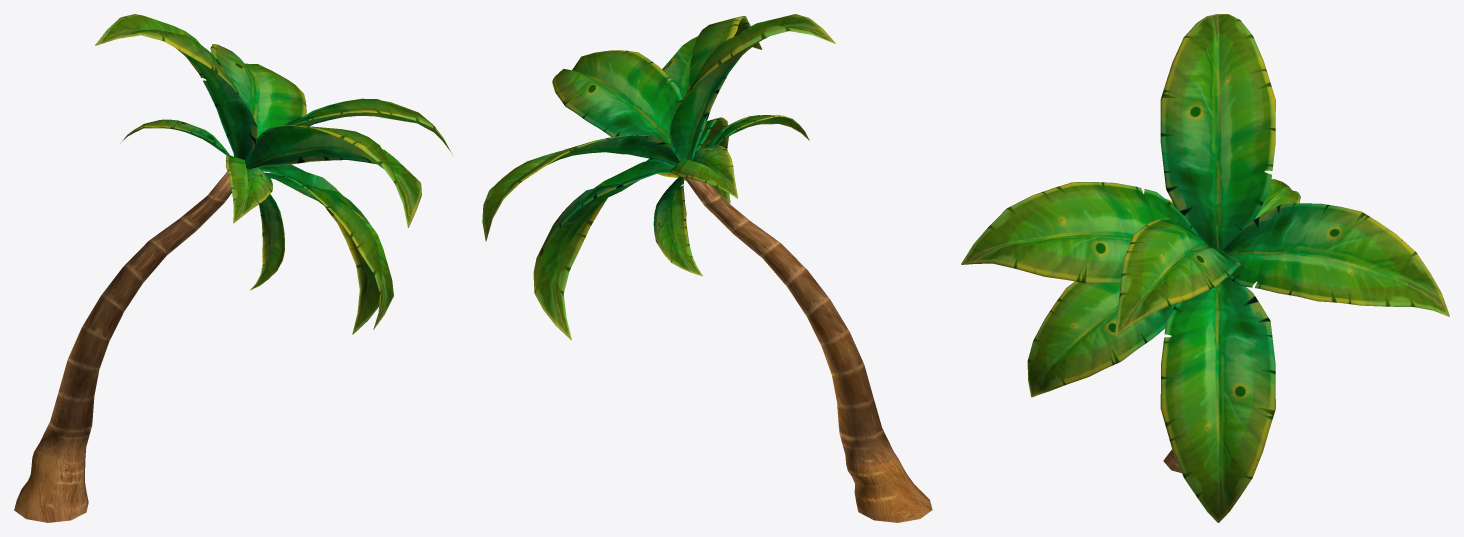
Rendered from Palm_003.fbx.
The picture shows the model from 3 angles, left to right: view 1: azimuth 30°, elevation 25°; view 2: azimuth 150°, elevation 25°; view 3: azimuth 270°, elevation 25°; orthographic projection. The views are drawn at different scales.
Parts seen in each view (by area): view 1: Palm_003_LOD0; view 2: Palm_003_LOD0; view 3: Palm_003_LOD0.
Boxes of the visible parts, x1,y1,x2,y2 form: Palm_003_LOD0: [14, 14, 452, 522]; Palm_003_LOD0: [482, 14, 932, 522]; Palm_003_LOD0: [961, 14, 1449, 522].
Size of what is drawn, in the model's own units: 544 by 606 by 551.
